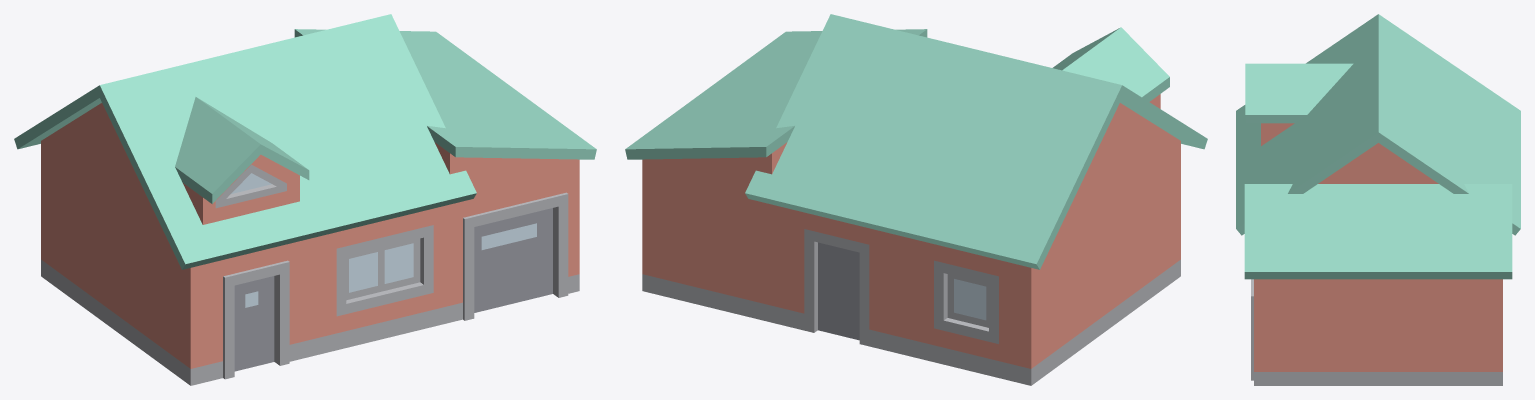
File: house_type04.glb
3 renders of one model, left to right at view 1: azimuth 30°, elevation 25°; view 2: azimuth 150°, elevation 25°; view 3: azimuth 270°, elevation 25°, orthographic. The views are drawn at different scales.
Visible parts, largest first — view 1: house_type04; view 2: house_type04; view 3: house_type04.
Part boxes in pixels (box(x1,y1,x2,y2)): house_type04: box(14, 14, 596, 385); house_type04: box(625, 14, 1207, 385); house_type04: box(1236, 14, 1520, 385).
Bounding box in the file's own units: 12.22 × 7.01 × 8.7.
